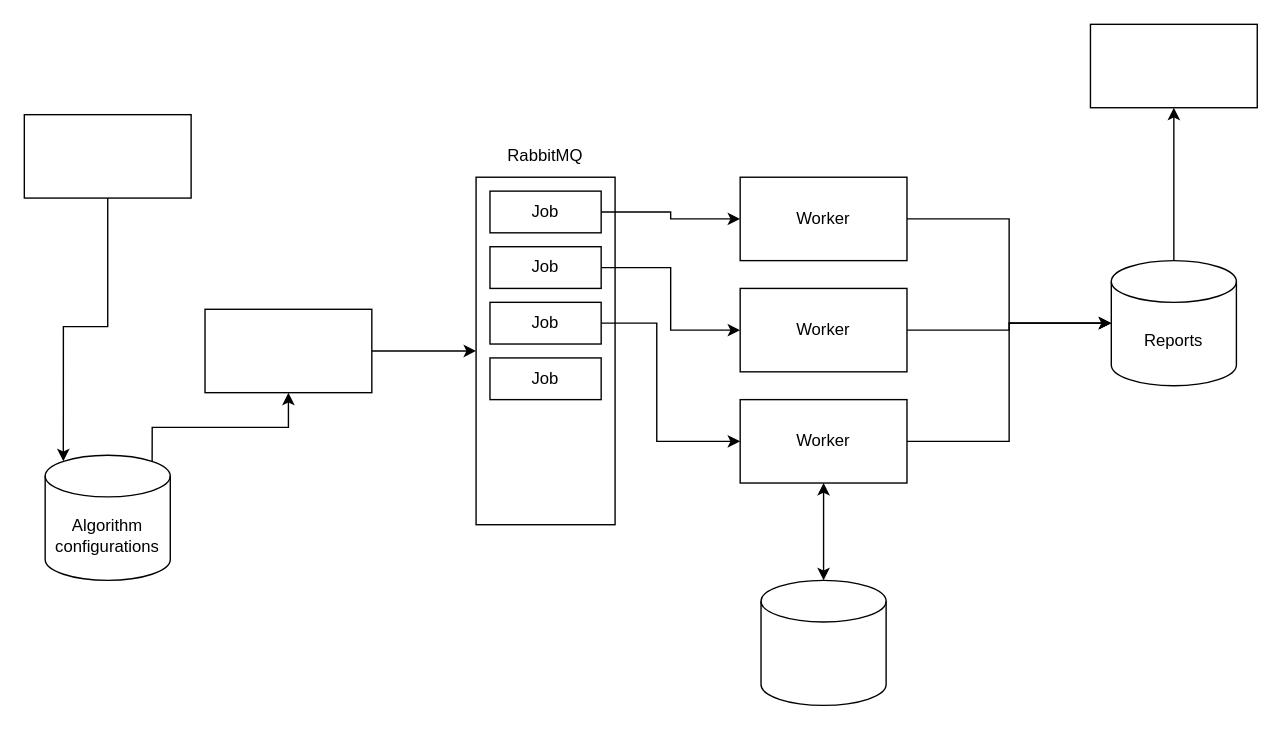
Image size: 1282x730. Some labels were removed from this diagram. Each missing label, with the box of its shape:
Algorithm configuration webpag (not made yet): (23, 113, 191, 198)
Organizer: (204, 308, 372, 393)
Report consumers (not in this repository): (1089, 23, 1257, 108)
Time-series: (760, 579, 886, 705)
